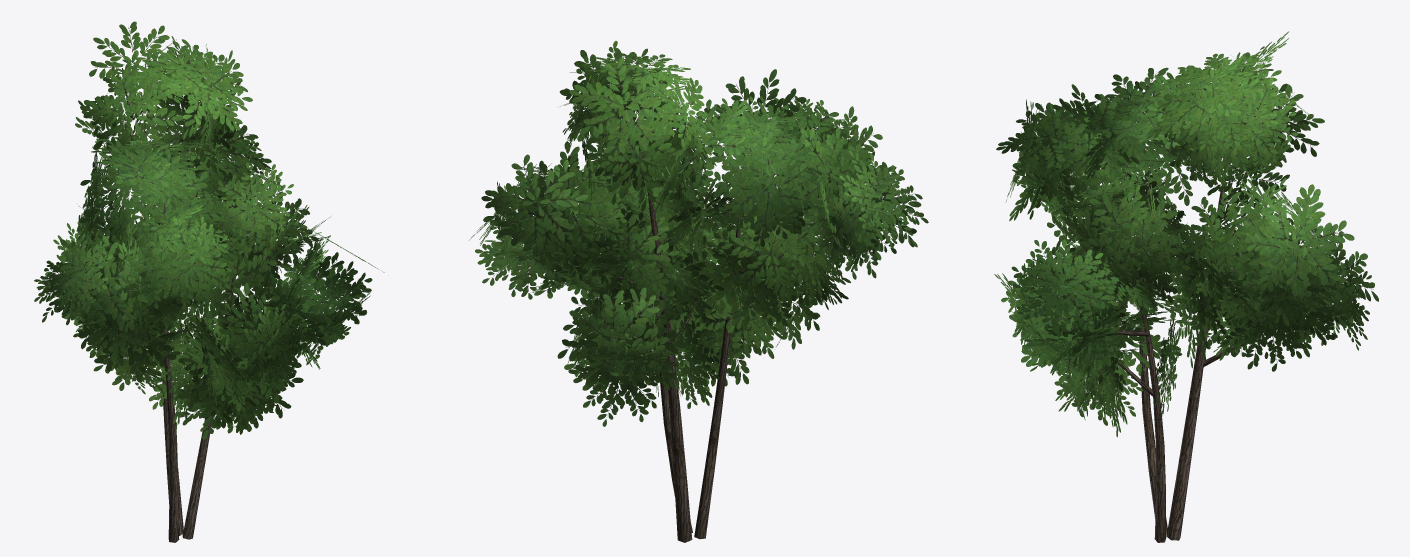
File: meadow_bush03.glb
3 views of the same model, side by side, from view 1: azimuth 30°, elevation 25°; view 2: azimuth 150°, elevation 25°; view 3: azimuth 270°, elevation 25° (orthographic). The views are drawn at different scales.
Parts seen in each view (by area): view 1: meadow_bush03; view 2: meadow_bush03; view 3: meadow_bush03.
Boxes of the visible parts, x1=… form: meadow_bush03: x1=34, y1=21, x2=384, y2=542; meadow_bush03: x1=469, y1=41, x2=928, y2=542; meadow_bush03: x1=994, y1=31, x2=1378, y2=542.
Bounding box in the file's own units: 1.4 × 1.83 × 1.37.
2 materials, 2 textured.
